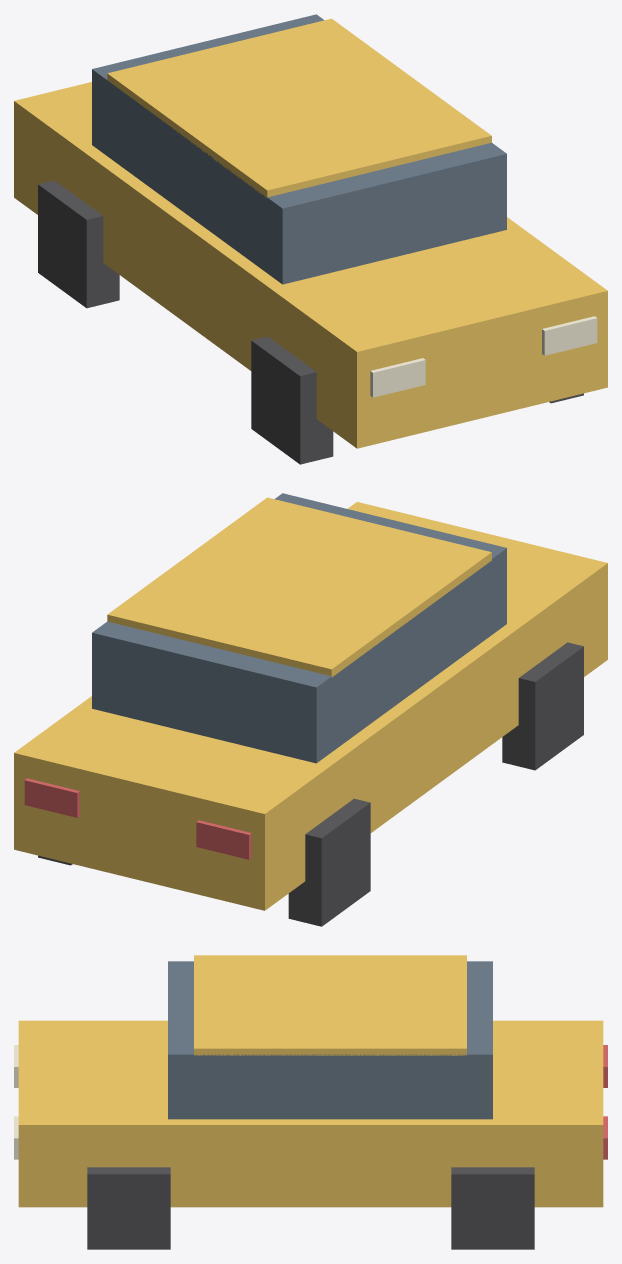
Rendered from car-yellow.glb.
3 views of the same model, one above another, from view 1: azimuth 30°, elevation 25°; view 2: azimuth 150°, elevation 25°; view 3: azimuth 270°, elevation 25° (orthographic). The views are drawn at different scales.
Size of the model in its own units: 2.15 by 1.6 by 4.57.
